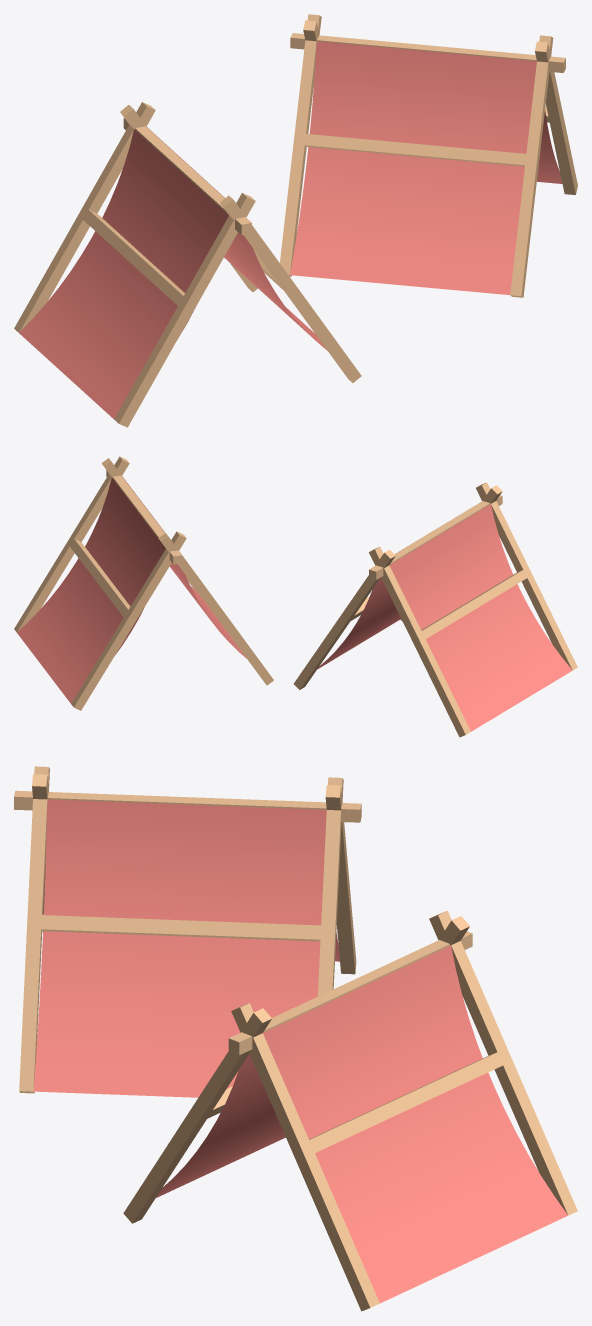
Rendered from tents.fbx.
3 renders of one model, top to bottom at view 1: azimuth 30°, elevation 25°; view 2: azimuth 150°, elevation 25°; view 3: azimuth 270°, elevation 25°, orthographic. The views are drawn at different scales.
Parts seen in each view (by area): view 1: tentClosed.001; view 2: tentClosed.001; view 3: tentClosed.001.
Part boxes in pixels (x1,y1,x2,y2): tentClosed.001: (14, 14, 577, 427); tentClosed.001: (14, 456, 577, 737); tentClosed.001: (14, 766, 577, 1311).
Bounding box in the file's own units: 137 × 45.98 × 91.21.
